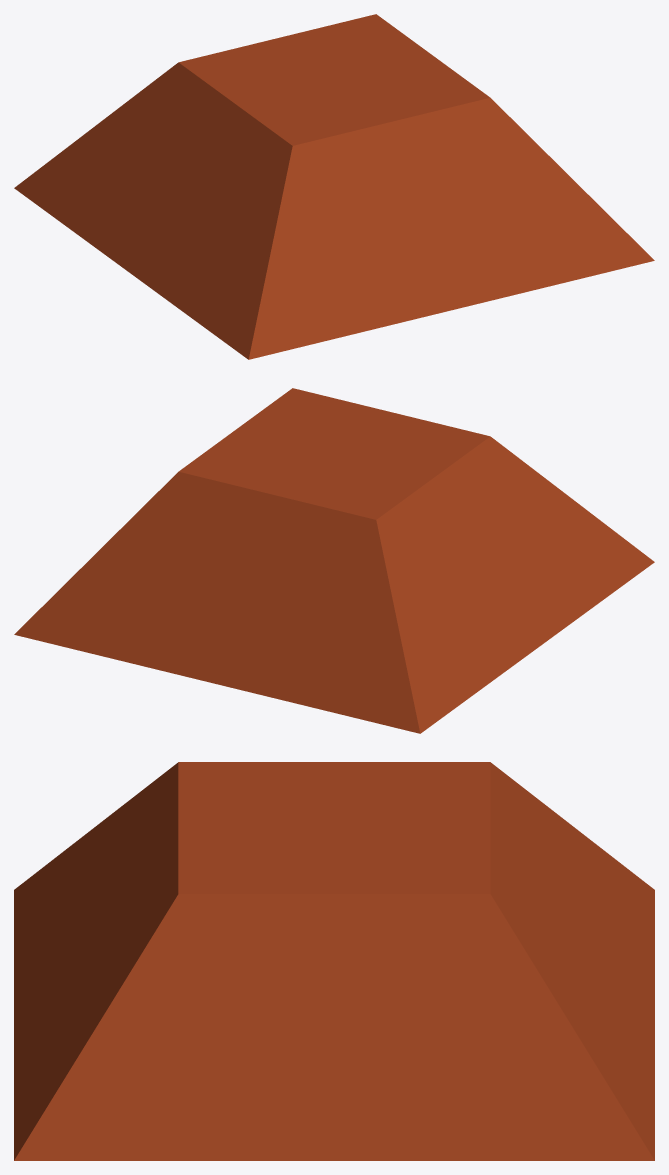
Rendered from torannporinn.fbx.
3 renders of one model, top to bottom at view 1: azimuth 30°, elevation 25°; view 2: azimuth 150°, elevation 25°; view 3: azimuth 270°, elevation 25°, orthographic. The views are drawn at different scales.
Visible parts, largest first — view 1: Cube; view 2: Cube; view 3: Cube.
Boxes of the visible parts, x1,y1,x2,y2 form: Cube: (14,14,654,359); Cube: (14,388,654,733); Cube: (14,762,654,1160).
Size of the model in its own units: 200 by 67.93 by 200.
